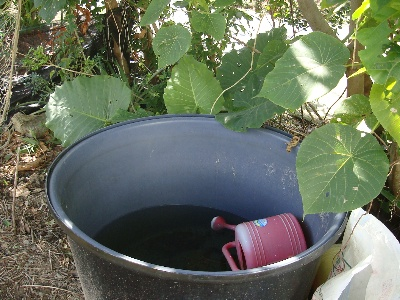bucket: (44, 112, 349, 300)
